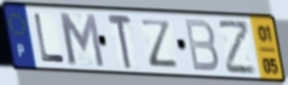B: (183, 17, 221, 74)
L: (32, 12, 67, 65)
M: (56, 10, 107, 69)
T: (105, 12, 134, 71)
Z: (216, 20, 258, 77), (138, 18, 180, 70)
